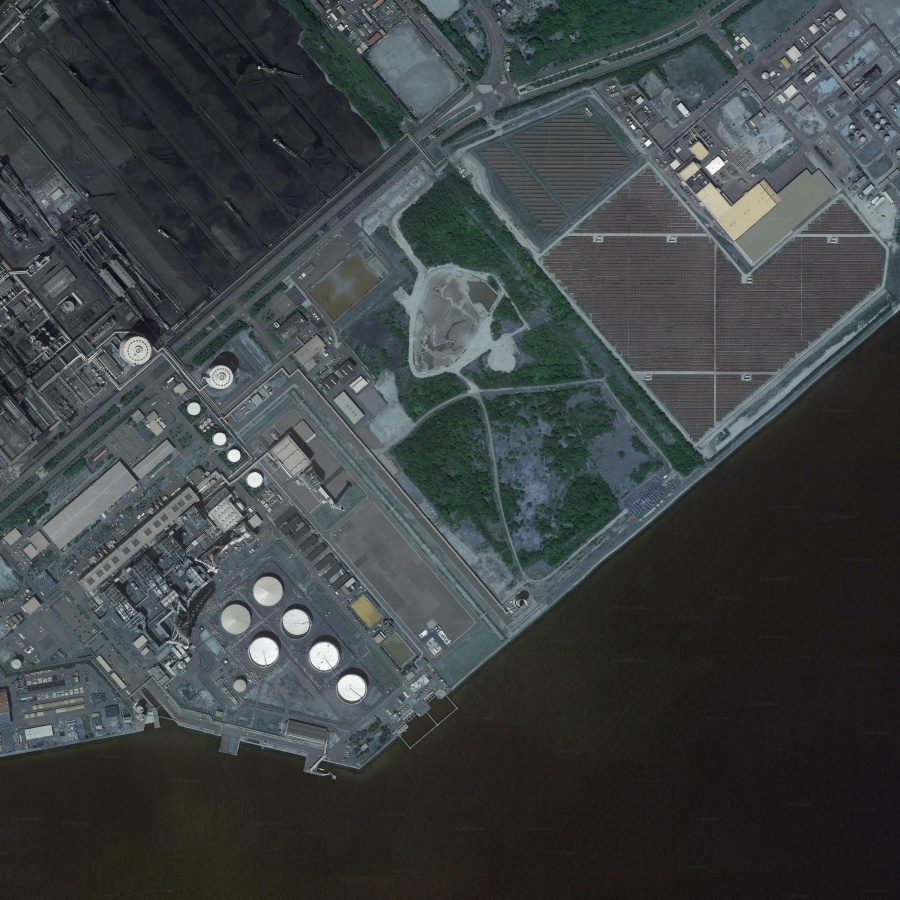PowerPlant: (88, 322, 389, 702)
